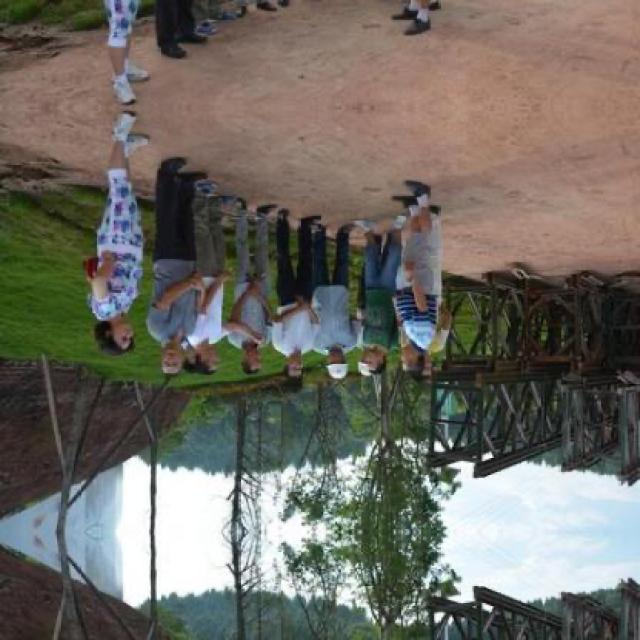con casco: (312, 338, 348, 383)
sin casco: (373, 326, 438, 379), (178, 327, 232, 383), (81, 312, 139, 354), (226, 322, 267, 377), (268, 333, 312, 381), (154, 333, 187, 375), (351, 340, 384, 379)
